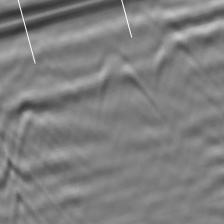Utility: (97, 44, 151, 106), (156, 35, 198, 77)
